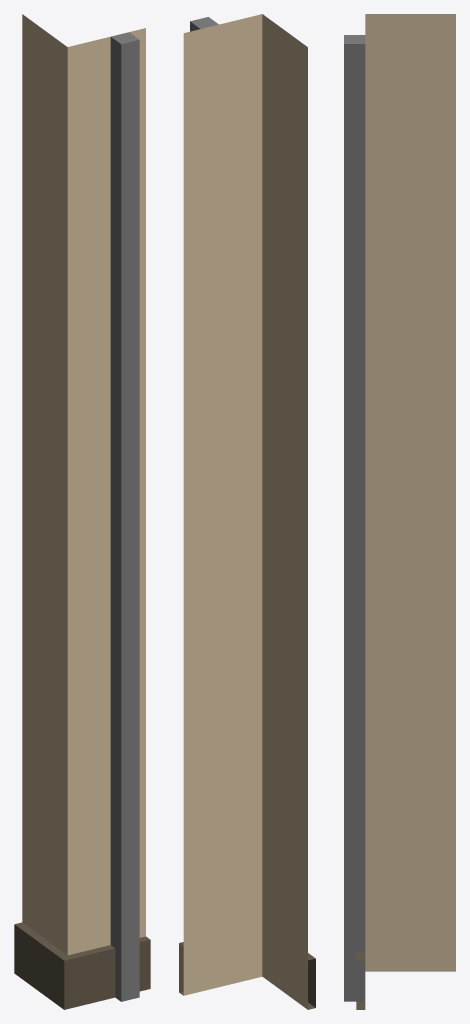
The model's file is mid-c1.fbx.
The picture shows the model from 3 angles, left to right: view 1: azimuth 30°, elevation 25°; view 2: azimuth 210°, elevation 25°; view 3: azimuth 270°, elevation 25°; orthographic projection.
Visible parts, largest first — view 1: a2000/400/mid-c1; view 2: a2000/400/mid-c1; view 3: a2000/400/mid-c1.
Part boxes in pixels (x1,y1,x2,y2): a2000/400/mid-c1: (14,14,150,1009); a2000/400/mid-c1: (179,14,315,1009); a2000/400/mid-c1: (344,14,455,1009).
Size of the model in its own units: 0.33 by 3.5 by 0.37.
